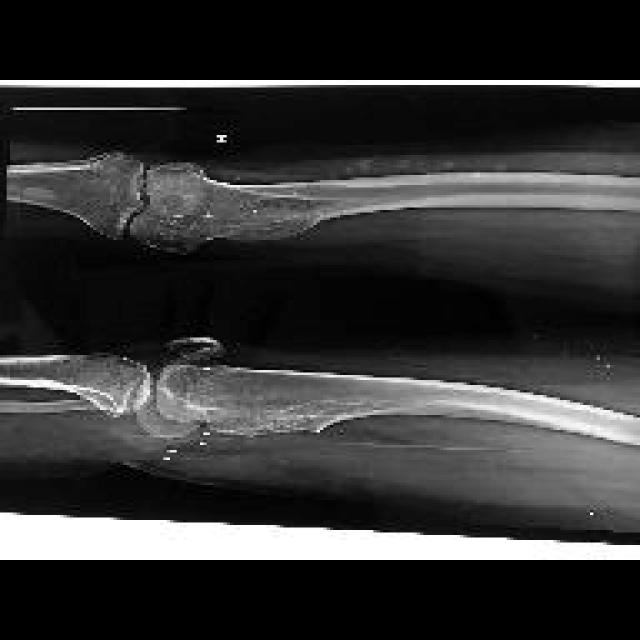bone-cancer: (216, 198, 342, 242), (203, 404, 340, 442), (140, 394, 205, 438)
